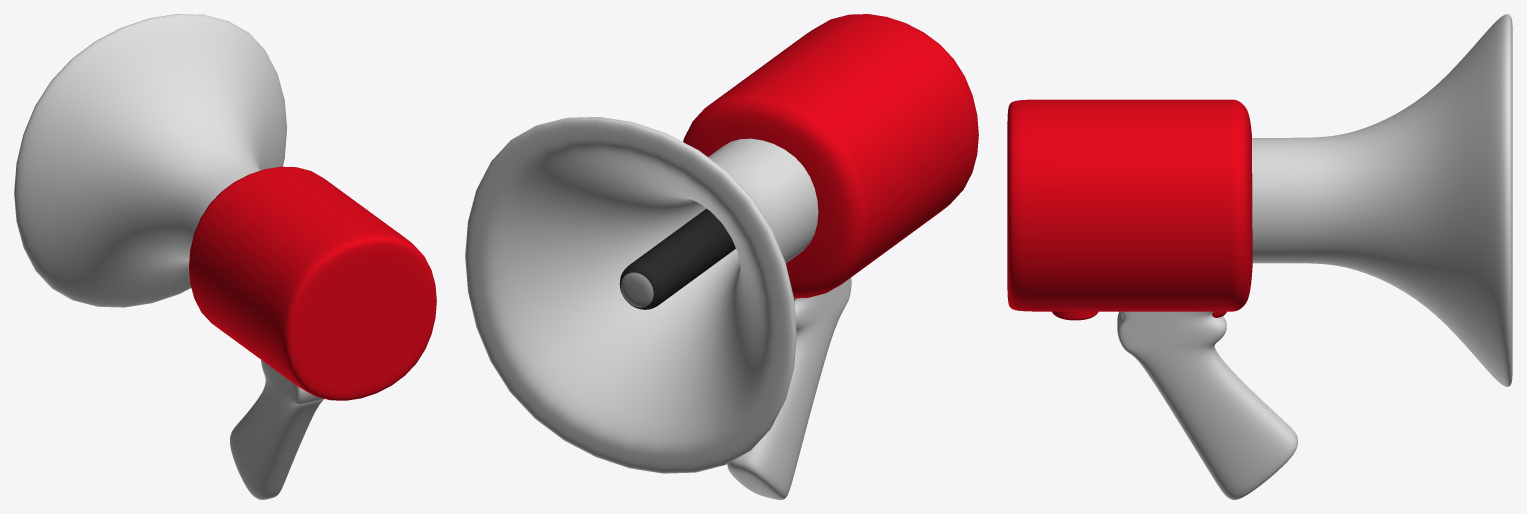
The model's file is Megaphone.fbx.
3 renders of one model, left to right at view 1: azimuth 30°, elevation 25°; view 2: azimuth 150°, elevation 25°; view 3: azimuth 270°, elevation 25°, orthographic. The views are drawn at different scales.
Parts seen in each view (by area): view 1: Cube.004; view 2: Cube.004; view 3: Cube.004.
Boxes of the visible parts, x1,y1,x2,y2 form: Cube.004: [14, 14, 436, 499]; Cube.004: [465, 14, 978, 499]; Cube.004: [1007, 14, 1512, 499].
Size of the model in its own units: 102 by 141 by 140.
